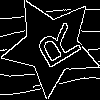R: (26, 21, 83, 76)
